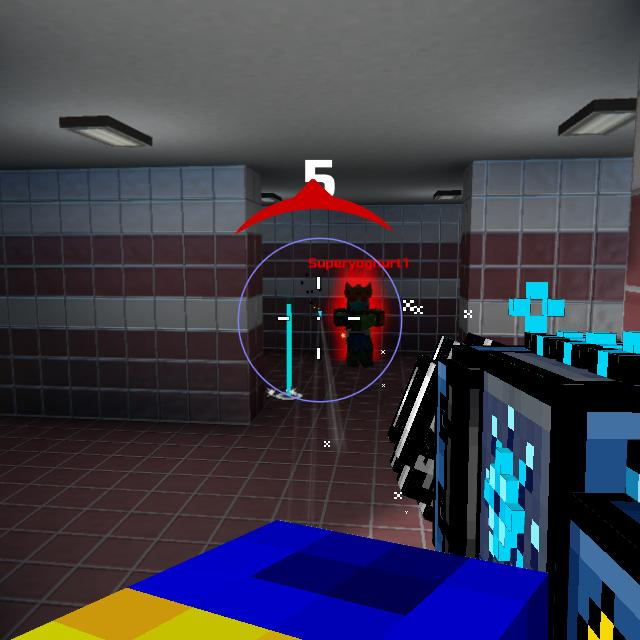Enemy: (334, 286, 387, 369)
